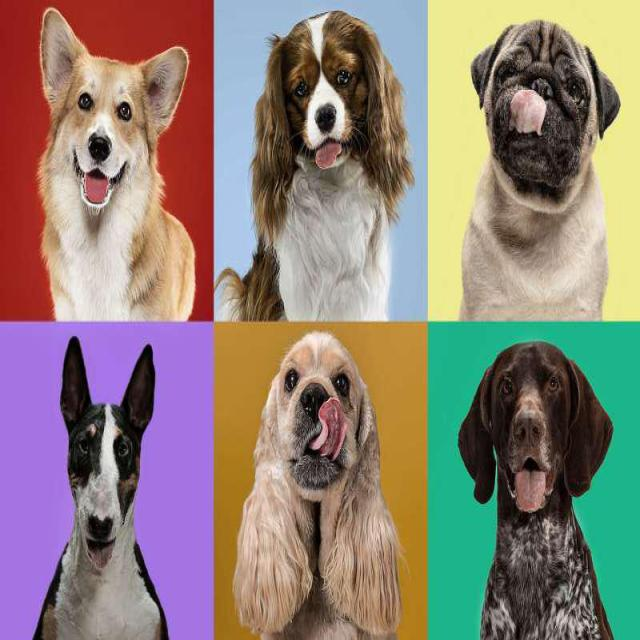Dog: (252, 7, 414, 225), (35, 4, 196, 223), (464, 14, 624, 221), (453, 335, 621, 523), (256, 327, 382, 553), (57, 331, 160, 578)
